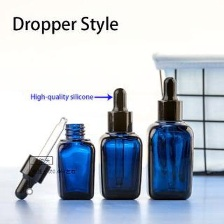bottle: (145, 99, 196, 202), (97, 109, 146, 203), (49, 119, 96, 202)
